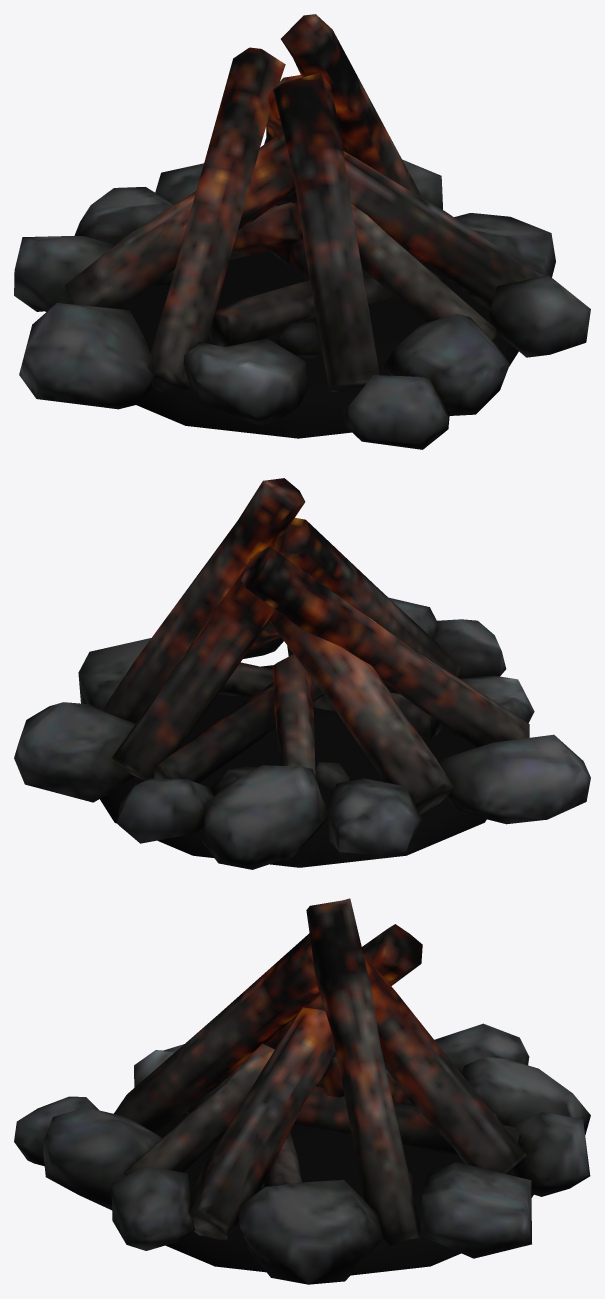
File: Campfire.fbx
3 views of the same model, one above another, from view 1: azimuth 30°, elevation 25°; view 2: azimuth 150°, elevation 25°; view 3: azimuth 270°, elevation 25° (orthographic). The views are drawn at different scales.
Visible parts, largest first — view 1: Campfire_LOD0; view 2: Campfire_LOD0; view 3: Campfire_LOD0.
Part boxes in pixels (bbox=[...]): Campfire_LOD0: bbox=[14, 14, 590, 449]; Campfire_LOD0: bbox=[14, 478, 590, 869]; Campfire_LOD0: bbox=[14, 898, 590, 1284].
Size of what is drawn, in the model's own units: 0.7393 by 0.7384 by 0.4343.
